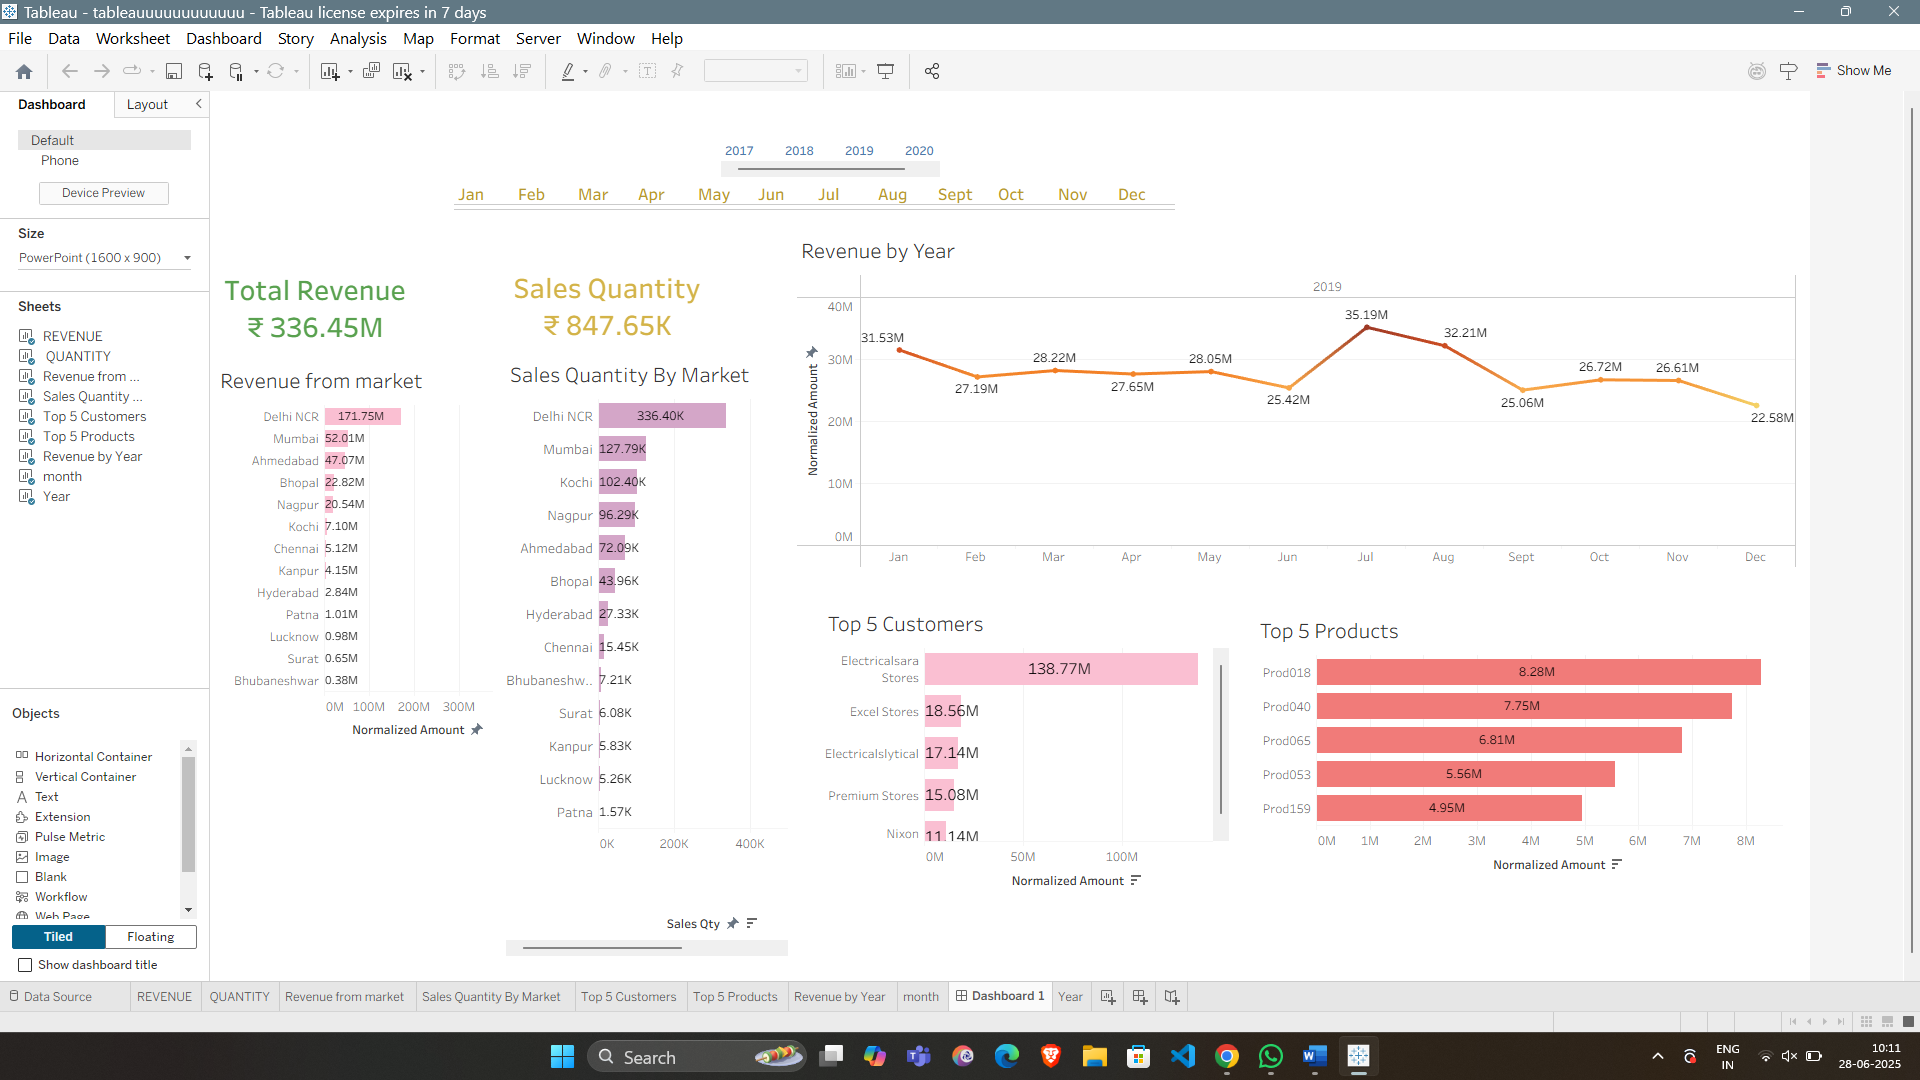

Layout of this report page (visuals, bound fields, positions):
{"tool":"tableau","page":{"name":"Dashboard 1","canvas":[1600,900],"ordinal":0},"visuals":[{"type":"worksheet","title":"Year","mark":"Automatic","cols":["cy_date"],"box":[511,49,236,37]},{"type":"worksheet","title":"month","mark":"Automatic","cols":["cy_date"],"box":[244,93,735,32]},{"type":"worksheet","title":"Revenue by Year","mark":"Automatic","rows":["Calculation_1043990711918407680"],"cols":["cy_date","cy_date"],"box":[587,141,999,336]},{"type":"worksheet","title":" QUANTITY","mark":"Automatic","box":[297,163,242,109]},{"type":"worksheet","title":"REVENUE","mark":"Automatic","box":[5,165,252,110]},{"type":"worksheet","title":"Sales Quantity By Market","mark":"Automatic","rows":["markets_name"],"cols":["sales_qty"],"box":[296,265,282.4,628]},{"type":"worksheet","title":"Revenue from market","mark":"Automatic","rows":["markets_name"],"cols":["Calculation_1043990711918407680"],"box":[6.4,271,276.8,505]},{"type":"worksheet","title":"Top 5 Customers","mark":"Automatic","rows":["custmer_name"],"cols":["Calculation_1043990711918407680"],"box":[614,514,405,291]},{"type":"worksheet","title":"Top 5 Products","mark":"Automatic","rows":["product_code (products)"],"cols":["Calculation_1043990711918407680"],"box":[1046,521,527,274]}]}

Visuals, with their boxes on the page's 1600x900 design canvas (x1, y1, x2, y2). These are canvas units, not pixel positions in the 1920x1080 screenshot, which may show the page scaled, cropped or inside an application window:
"Year" worksheet: <bbox>511, 49, 747, 86</bbox>
"month" worksheet: <bbox>244, 93, 979, 125</bbox>
"Revenue by Year" worksheet: <bbox>587, 141, 1586, 477</bbox>
" QUANTITY" worksheet: <bbox>297, 163, 539, 272</bbox>
"REVENUE" worksheet: <bbox>5, 165, 257, 275</bbox>
"Sales Quantity By Market" worksheet: <bbox>296, 265, 578, 893</bbox>
"Revenue from market" worksheet: <bbox>6, 271, 283, 776</bbox>
"Top 5 Customers" worksheet: <bbox>614, 514, 1019, 805</bbox>
"Top 5 Products" worksheet: <bbox>1046, 521, 1573, 795</bbox>
